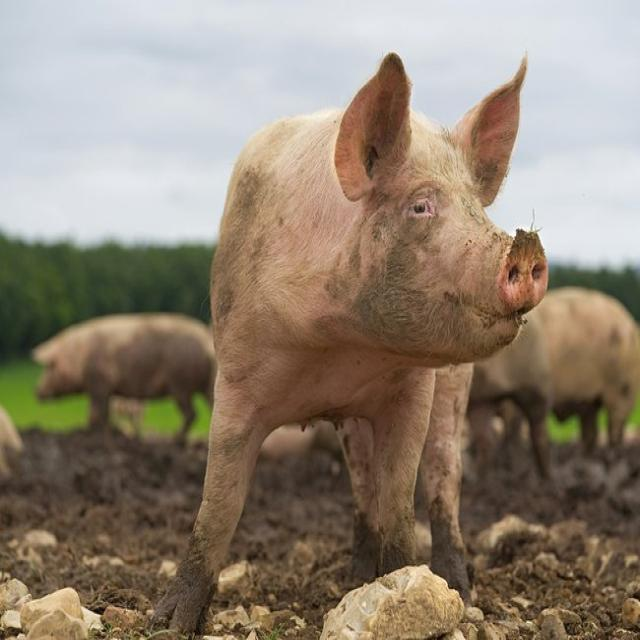Pig: (152, 49, 554, 637)
